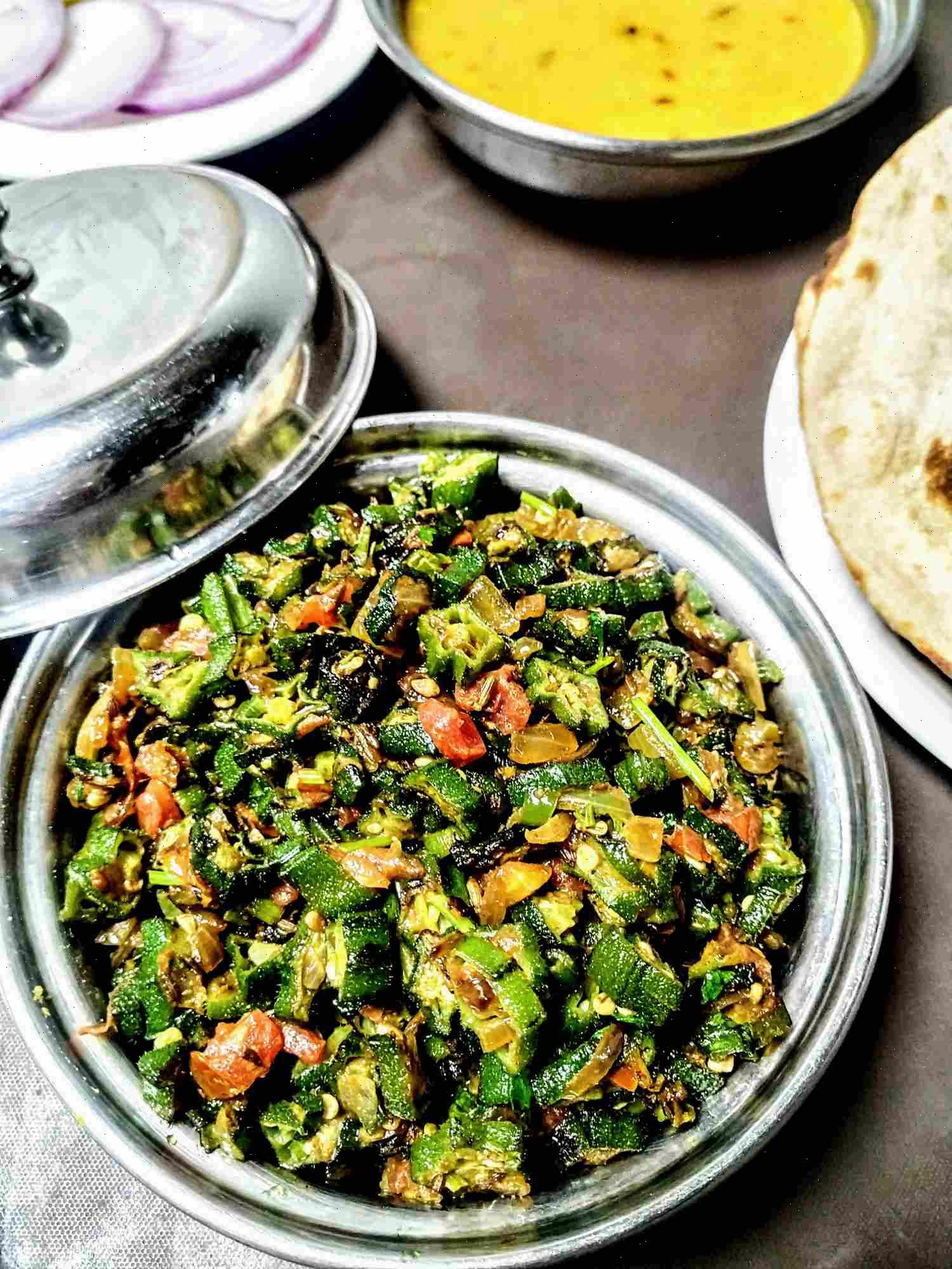bhindi: (96, 553, 781, 1240)
